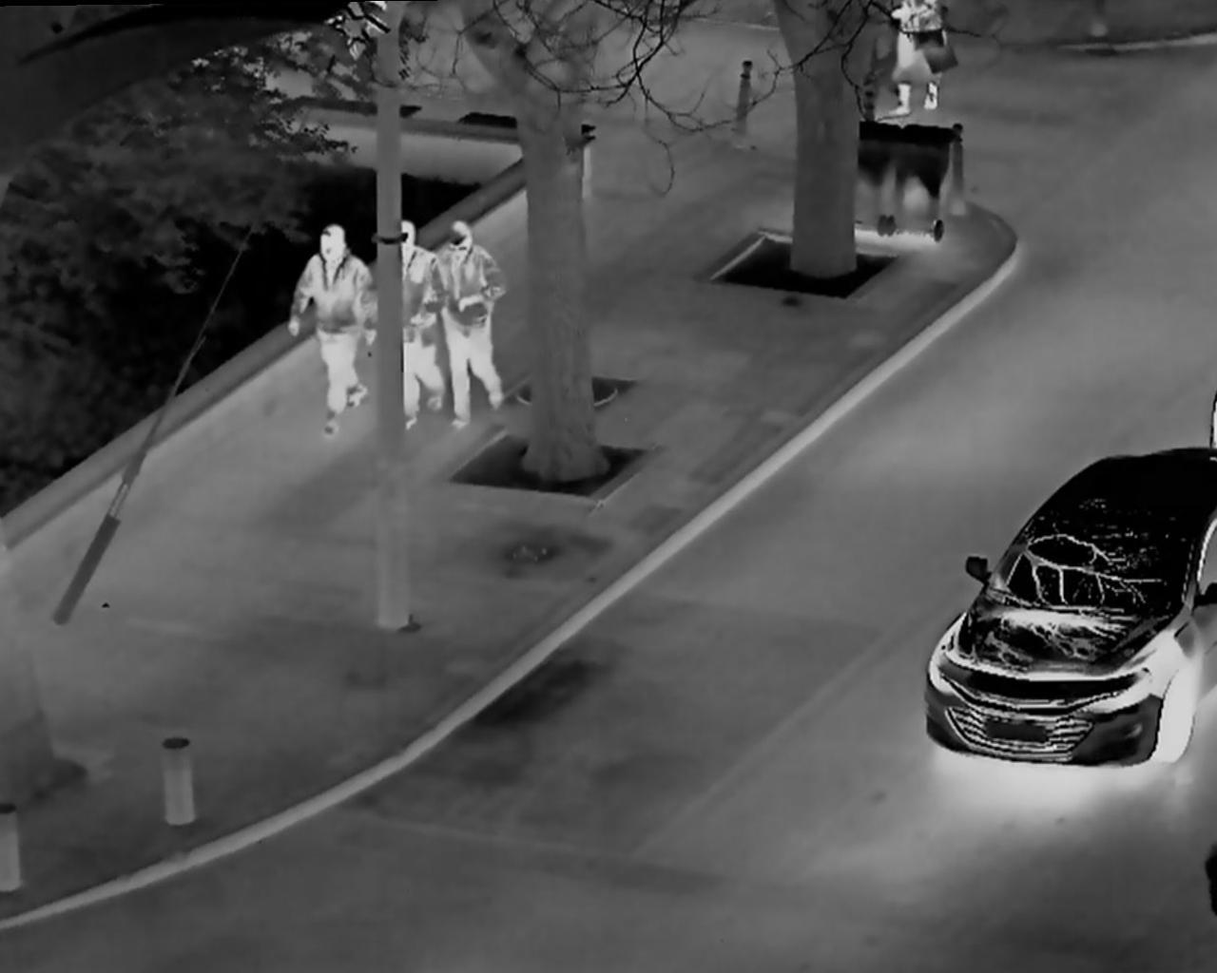person: (433, 218, 515, 428), (298, 214, 373, 439), (373, 206, 442, 432), (886, 5, 952, 115)
